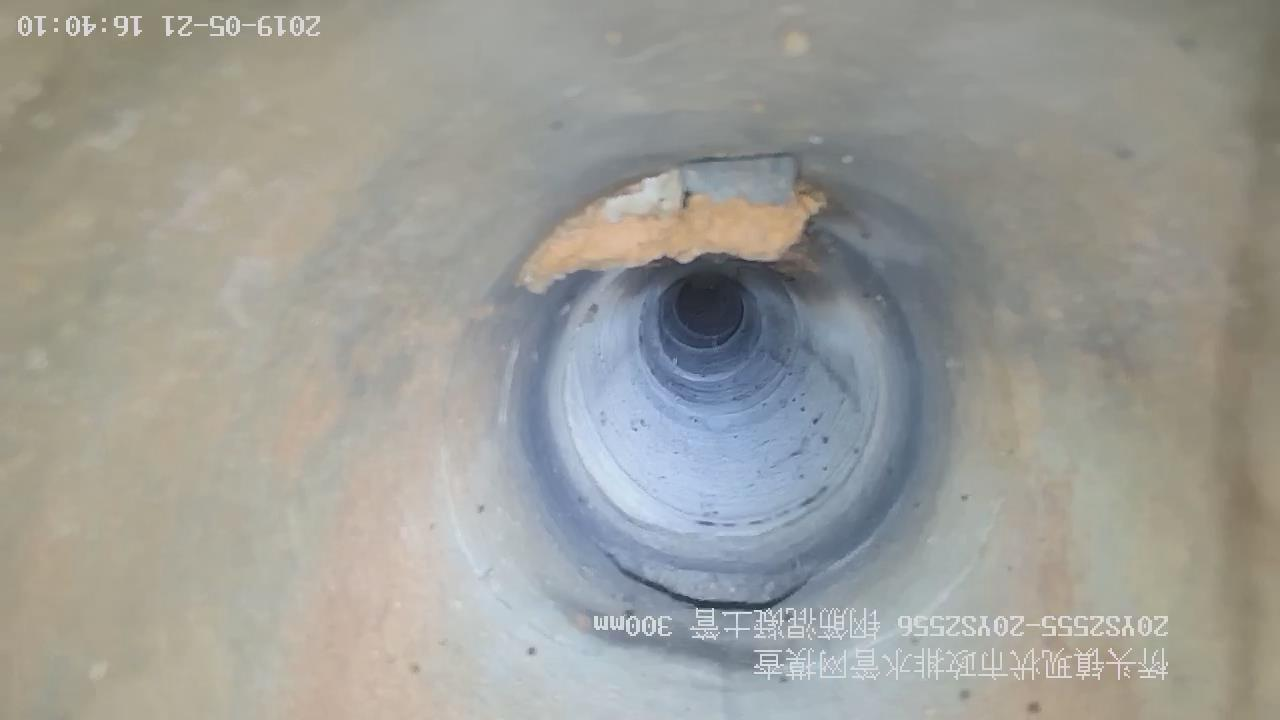PL: (591, 529, 824, 624)
